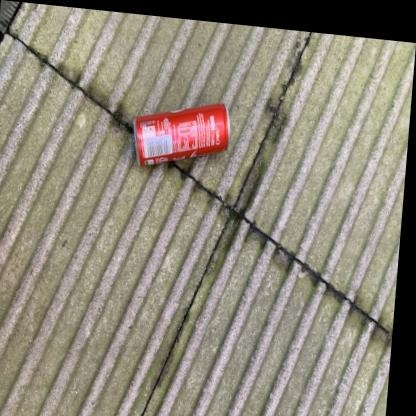trash: (134, 104, 228, 165)
